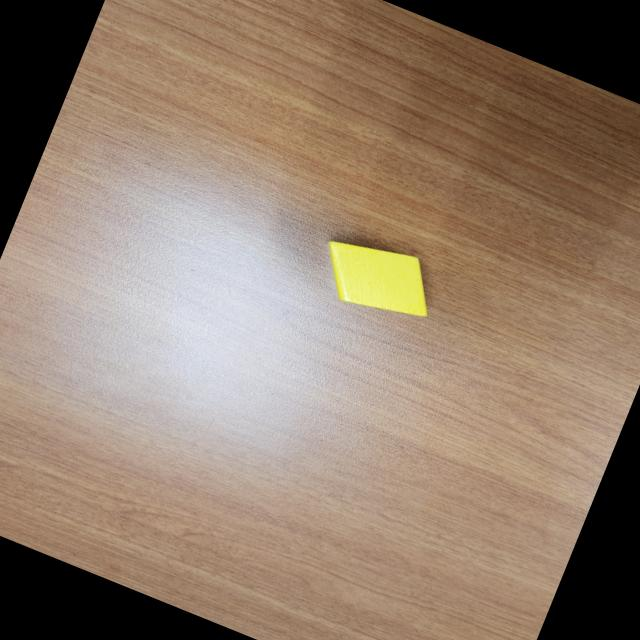yellow: (308, 224, 446, 332)
